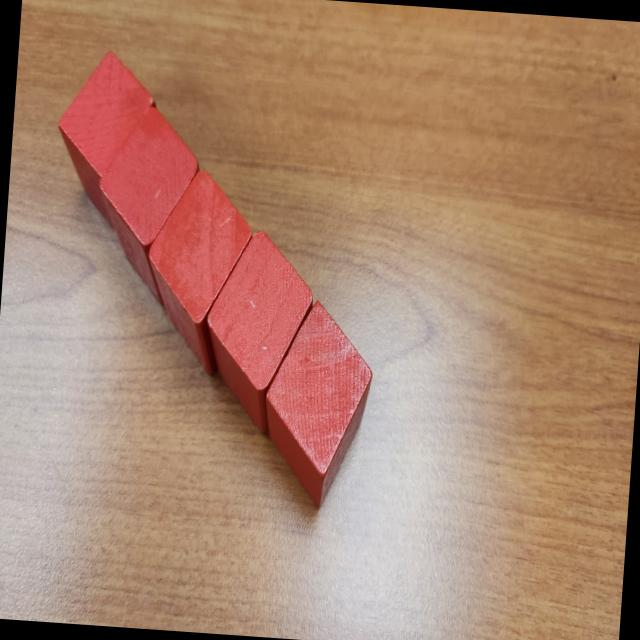red: (258, 297, 378, 513), (198, 226, 318, 439), (140, 165, 256, 379), (90, 104, 202, 308), (51, 46, 161, 230)
